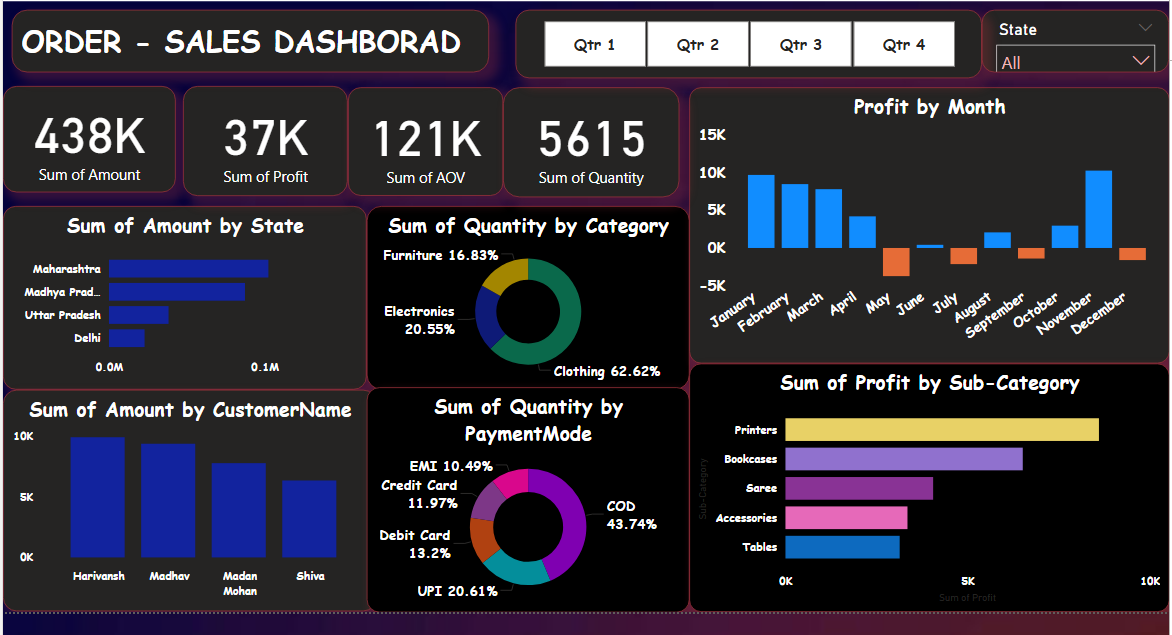

The page's visual inventory and layout, read from the dashboard file:
{"tool":"powerbi","page":{"name":"Page 1","canvas":[1280,720],"ordinal":0},"visuals":[{"type":"clusteredBarChart","fields":{"Category":["Orders csv.State"],"Y":["Sum(Details csv.Amount)"]},"box":[0,274.4,399.3,201.7],"z":0},{"type":"donutChart","fields":{"Y":["Sum(Details csv.Quantity)"],"Category":["Details csv.Category"]},"box":[399.3,274.4,354,201.7],"z":1000},{"type":"clusteredColumnChart","title":" Profit by Month","fields":{"Y":["Sum(Details csv.Profit)"],"Category":["Orders csv.Order Date.Variation.Date Hierarchy.Month"]},"box":[753.3,144.1,526.9,303.3],"z":2000},{"type":"clusteredColumnChart","fields":{"Y":["Sum(Details csv.Amount)"],"Category":["Orders csv.CustomerName"]},"box":[0,476.2,410.3,242.9],"z":3000},{"type":"slicer","fields":{"Values":["Orders csv.State"]},"box":[1074.4,59,205.8,68.6],"z":4000},{"type":"donutChart","fields":{"Y":["Sum(Details csv.Quantity)"],"Category":["Details csv.PaymentMode"]},"box":[399.3,473.4,354,247],"z":5000},{"type":"clusteredBarChart","fields":{"Y":["Sum(Details csv.Profit)"],"Category":["Details csv.Sub-Category"]},"box":[753.3,447.3,526.9,273.1],"z":6000},{"type":"card","fields":{"Values":["Sum(Details csv.Amount)"]},"box":[0,142.7,189.4,116.6],"z":7000},{"type":"card","fields":{"Values":["Sum(Details csv.Profit)"]},"box":[197.6,142.7,181.1,120.8],"z":8000},{"type":"card","fields":{"Values":["Sum(Details csv.AOV)"]},"box":[378.7,144.1,170.2,119.4],"z":9000},{"type":"card","fields":{"Values":["Sum(Details csv.Quantity)"]},"box":[548.9,144.1,193.5,120.8],"z":10000},{"type":"textbox","box":[9.6,59,524.2,68.6],"z":11000},{"type":"slicer","fields":{"Values":["Orders csv.Order Date.Variation.Date Hierarchy.Quarter"]},"box":[562.6,59,511.8,75.5],"z":12000}]}

Visuals, with their boxes on the page's 1280x720 design canvas (x1, y1, x2, y2). These are canvas units, not pixel positions in the 1172x635 screenshot, which may show the page scaled, cropped or inside an application window:
clusteredBarChart - Orders csv.State x Sum(Details csv.Amount): [x1=0, y1=274, x2=399, y2=476]
donutChart - Sum(Details csv.Quantity) x Details csv.Category: [x1=399, y1=274, x2=753, y2=476]
" Profit by Month" clusteredColumnChart: [x1=753, y1=144, x2=1280, y2=447]
clusteredColumnChart - Sum(Details csv.Amount) x Orders csv.CustomerName: [x1=0, y1=476, x2=410, y2=719]
slicer - Orders csv.State: [x1=1074, y1=59, x2=1280, y2=128]
donutChart - Sum(Details csv.Quantity) x Details csv.PaymentMode: [x1=399, y1=473, x2=753, y2=720]
clusteredBarChart - Sum(Details csv.Profit) x Details csv.Sub-Category: [x1=753, y1=447, x2=1280, y2=720]
card - Sum(Details csv.Amount): [x1=0, y1=143, x2=189, y2=259]
card - Sum(Details csv.Profit): [x1=198, y1=143, x2=379, y2=264]
card - Sum(Details csv.AOV): [x1=379, y1=144, x2=549, y2=264]
card - Sum(Details csv.Quantity): [x1=549, y1=144, x2=742, y2=265]
textbox: [x1=10, y1=59, x2=534, y2=128]
slicer - Orders csv.Order Date.Variation.Date Hierarchy.Quarter: [x1=563, y1=59, x2=1074, y2=134]
